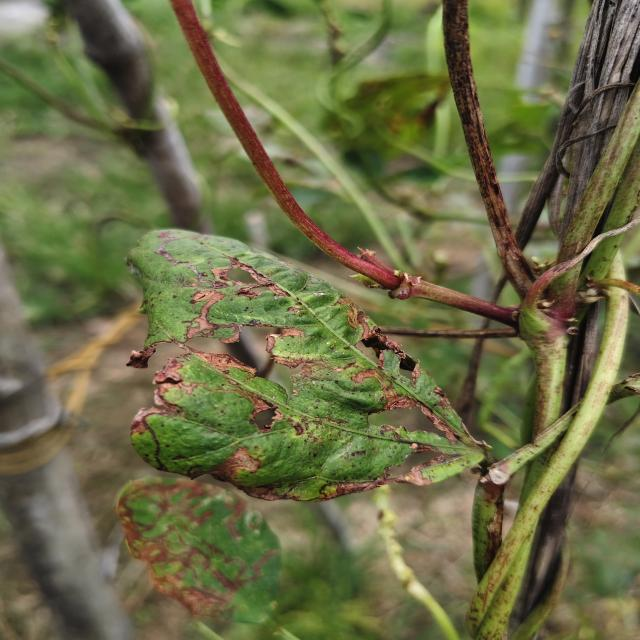leaf-moderate: (127, 230, 494, 501)
sitaw-aphid-moderate: (443, 0, 588, 360)
sitaw-moderate: (468, 401, 590, 640), (513, 594, 555, 640)
